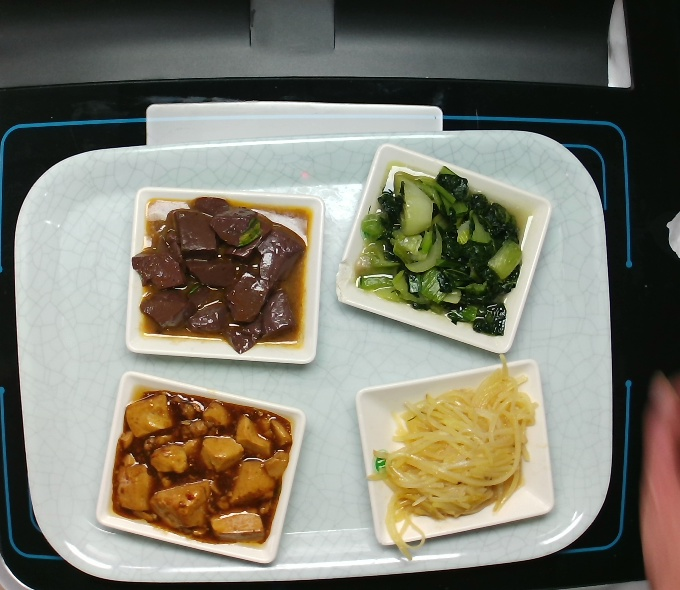wcq-MaPoDouFu: (116, 390, 292, 547)
wcq-NiuXue: (136, 198, 304, 354)
wcq-TuDouSi: (374, 384, 532, 522)
wcq-YouDongCai: (353, 166, 527, 333)
